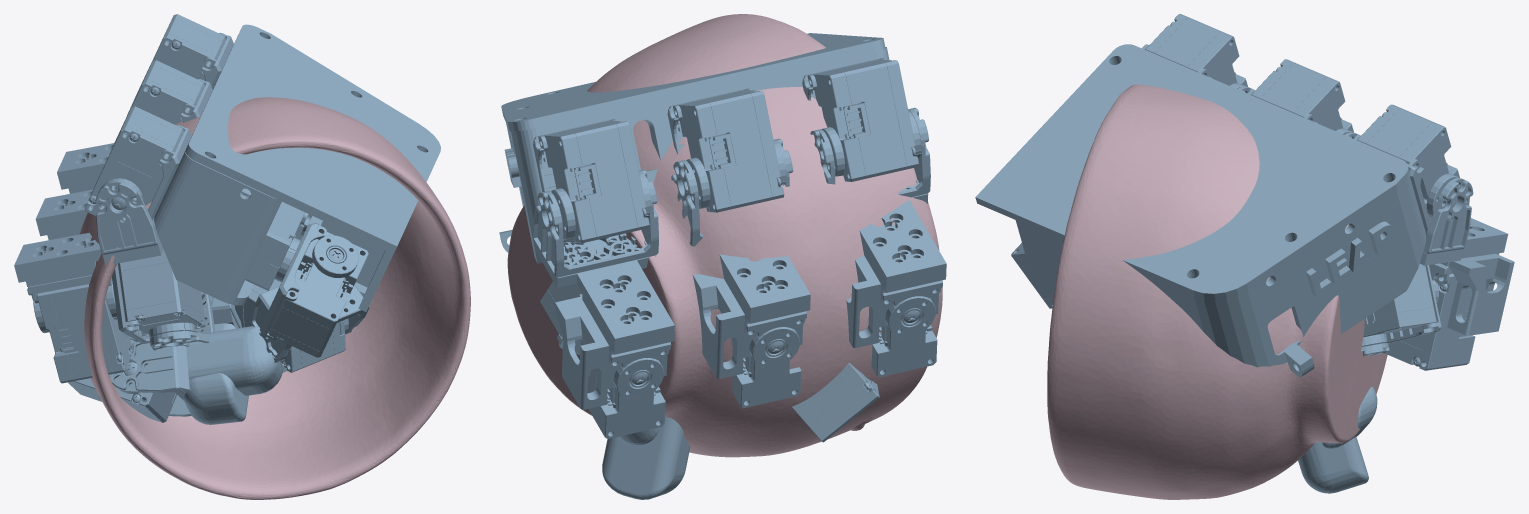
The picture shows the model from 3 angles, left to right: view 1: azimuth 30°, elevation 25°; view 2: azimuth 150°, elevation 25°; view 3: azimuth 270°, elevation 25°; orthographic projection. The views are drawn at different scales.
Visible parts, largest first — view 1: world, obj_mesh_grasp_10.obj; view 2: world, obj_mesh_grasp_10.obj; view 3: world, obj_mesh_grasp_10.obj.
Boxes of the visible parts, box(x1,y1,x2,y2) form: world: box(14, 14, 440, 424); obj_mesh_grasp_10.obj: box(79, 97, 470, 499); world: box(499, 33, 946, 499); obj_mesh_grasp_10.obj: box(507, 14, 942, 457); world: box(975, 14, 1514, 493); obj_mesh_grasp_10.obj: box(1047, 84, 1387, 499).
Bounding box in the file's own units: 0.1627 × 0.1431 × 0.1769.
